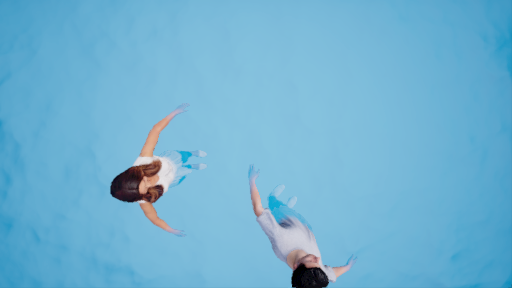person: (112, 95, 217, 247), (241, 163, 352, 288)
